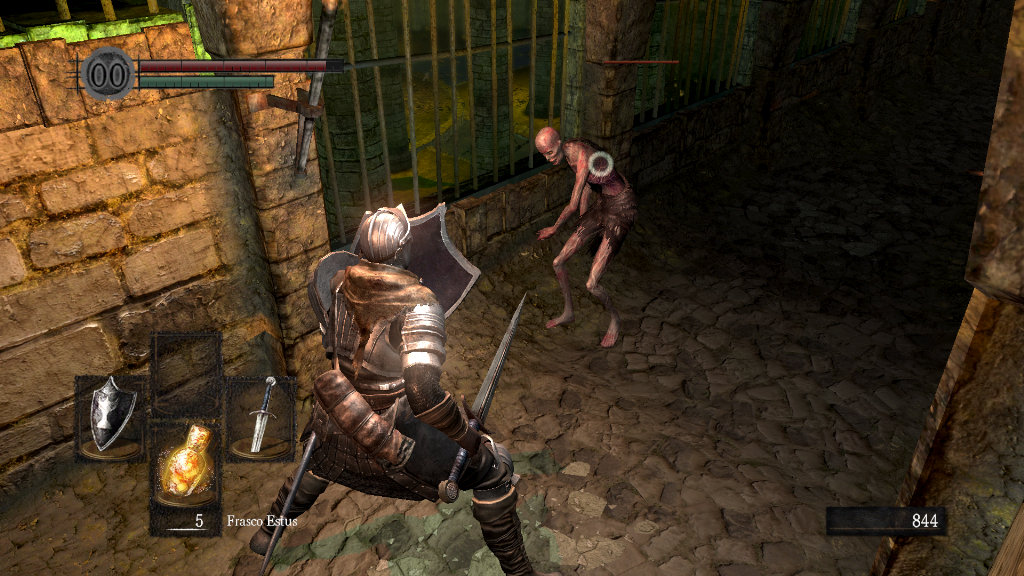health: (138, 58, 343, 71)
hollow: (529, 128, 639, 348)
humanity: (80, 45, 136, 102)
player: (250, 202, 540, 576)
souls: (825, 506, 945, 536)
stamina: (138, 74, 274, 88)
